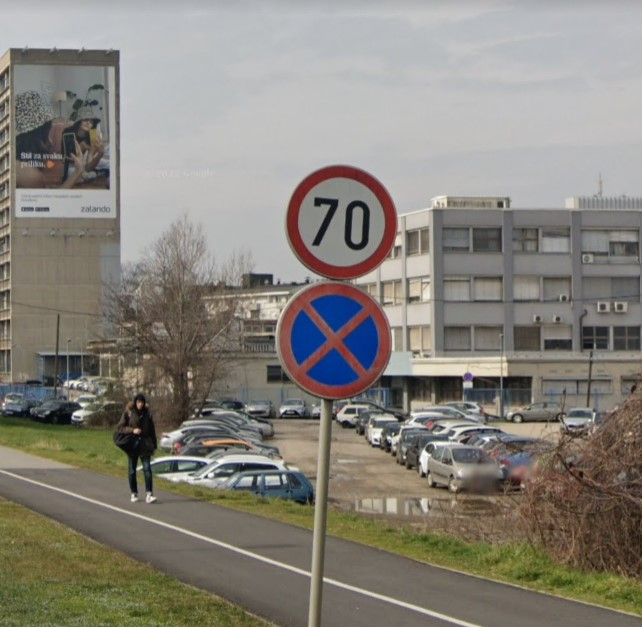Ograničenje brzine 70: (286, 163, 398, 279)
